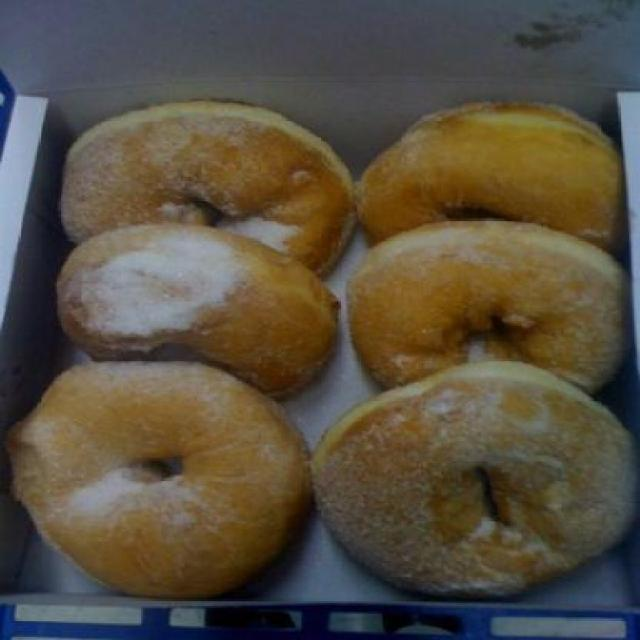Donuts: (27, 87, 638, 624)
